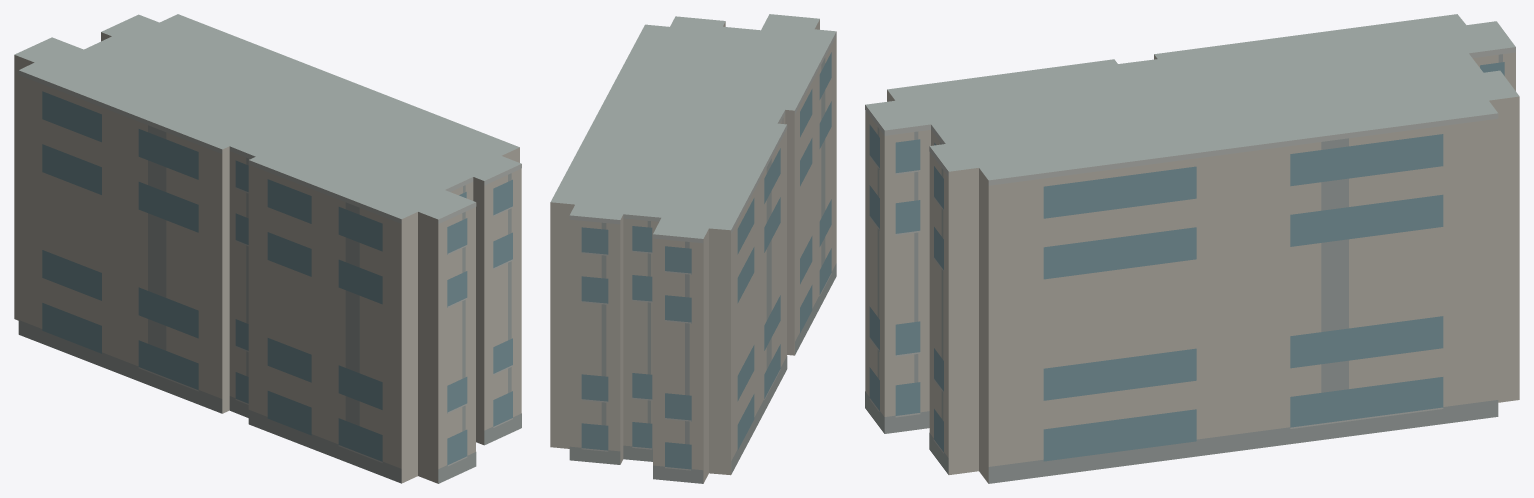
Rendered from survey-upis-32610486.glb.
3 renders of one model, left to right at view 1: azimuth 30°, elevation 25°; view 2: azimuth 150°, elevation 25°; view 3: azimuth 270°, elevation 25°, orthographic. The views are drawn at different scales.
Visible parts, largest first — view 1: survey-upis-32610486.tmp; view 2: survey-upis-32610486.tmp; view 3: survey-upis-32610486.tmp.
Part boxes in pixels (x1,y1,x2,y2): survey-upis-32610486.tmp: (14, 14, 521, 483); survey-upis-32610486.tmp: (550, 14, 836, 483); survey-upis-32610486.tmp: (865, 14, 1519, 483).
Bounding box in the file's own units: 16.24 × 13.8 × 26.98.
